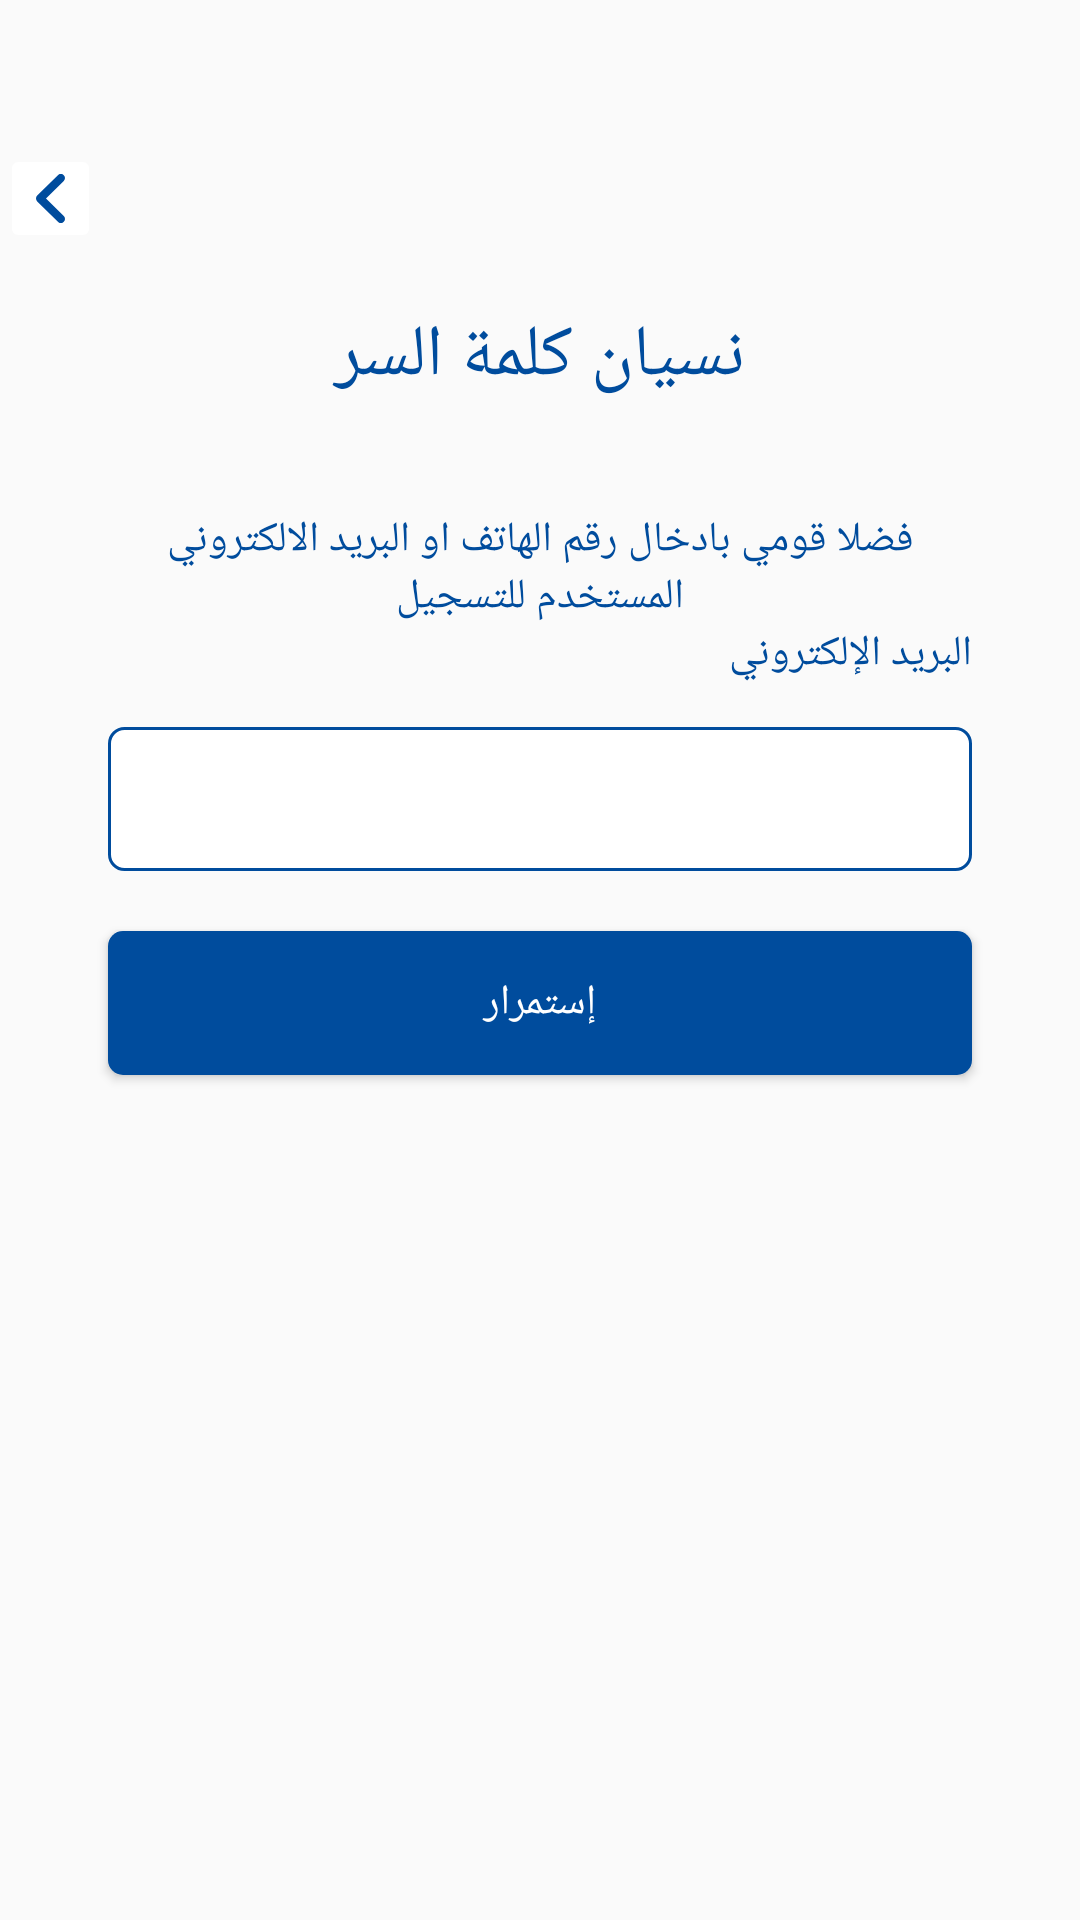

Screen size 1080×1920. Icon name, then its center in pixels as (x,y):
angle left: (50,198)
